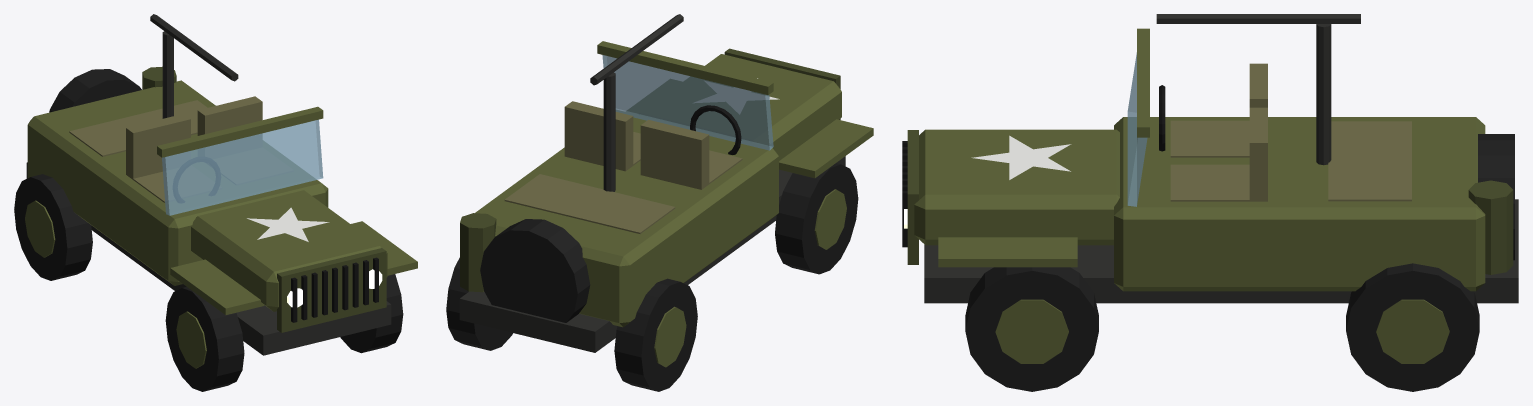
File: jeep.glb
The picture shows the model from 3 angles, left to right: view 1: azimuth 30°, elevation 25°; view 2: azimuth 150°, elevation 25°; view 3: azimuth 270°, elevation 25°; orthographic projection. The views are drawn at different scales.
Visible parts, largest first — view 1: Jeep; view 2: Jeep; view 3: Jeep.
Part boxes in pixels (left/top/right/bottom): Jeep: left=14, top=14, right=417, bottom=391; Jeep: left=446, top=14, right=873, bottom=391; Jeep: left=902, top=14, right=1518, bottom=391.
Bounding box in the file's own units: 1.5 × 1.91 × 3.32.
